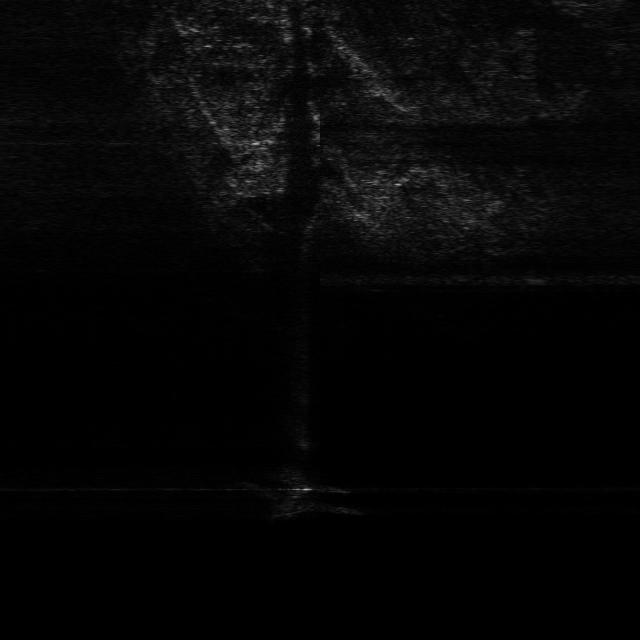plane: (239, 464, 367, 521)
